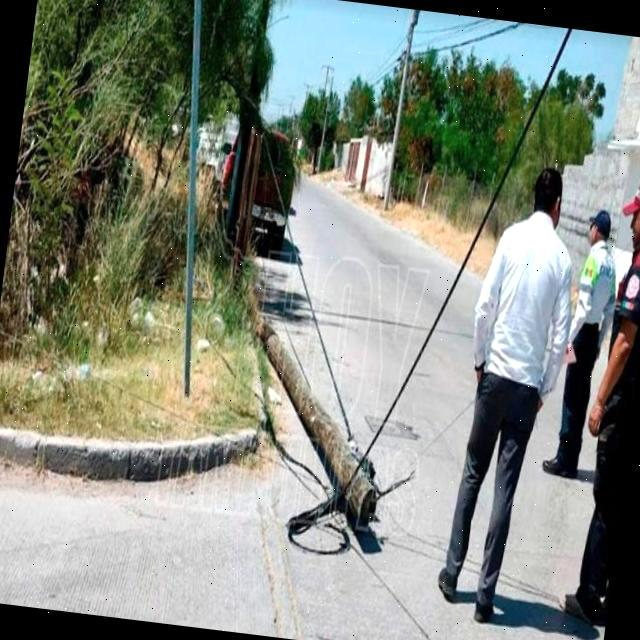Broken Pole: (254, 310, 378, 558)
